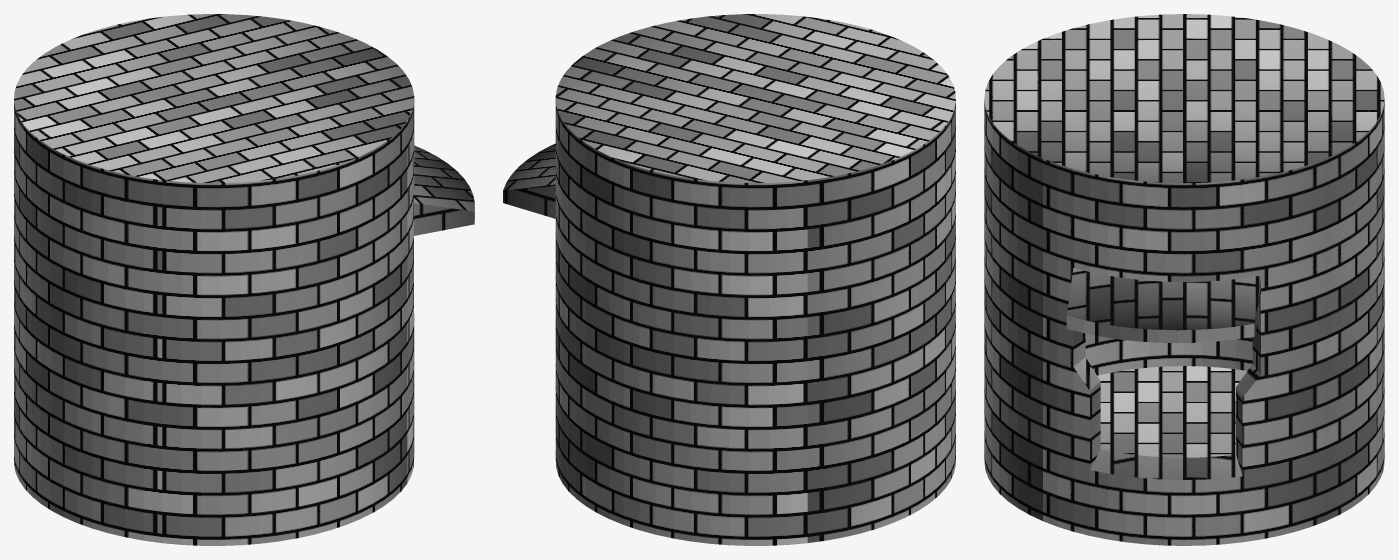
File: tower.glb
3 views of the same model, side by side, from view 1: azimuth 30°, elevation 25°; view 2: azimuth 150°, elevation 25°; view 3: azimuth 270°, elevation 25° (orthographic).
Visible parts, largest first — view 1: baked; view 2: baked; view 3: baked.
Boxes of the visible parts, x1,y1,x2,y2 form: baked: (14,14,474,545); baked: (503,14,955,545); baked: (984,14,1384,545).
Size of the model in its own units: 10.49 by 9 by 9.
Materials: 1 (1 with a texture image).
